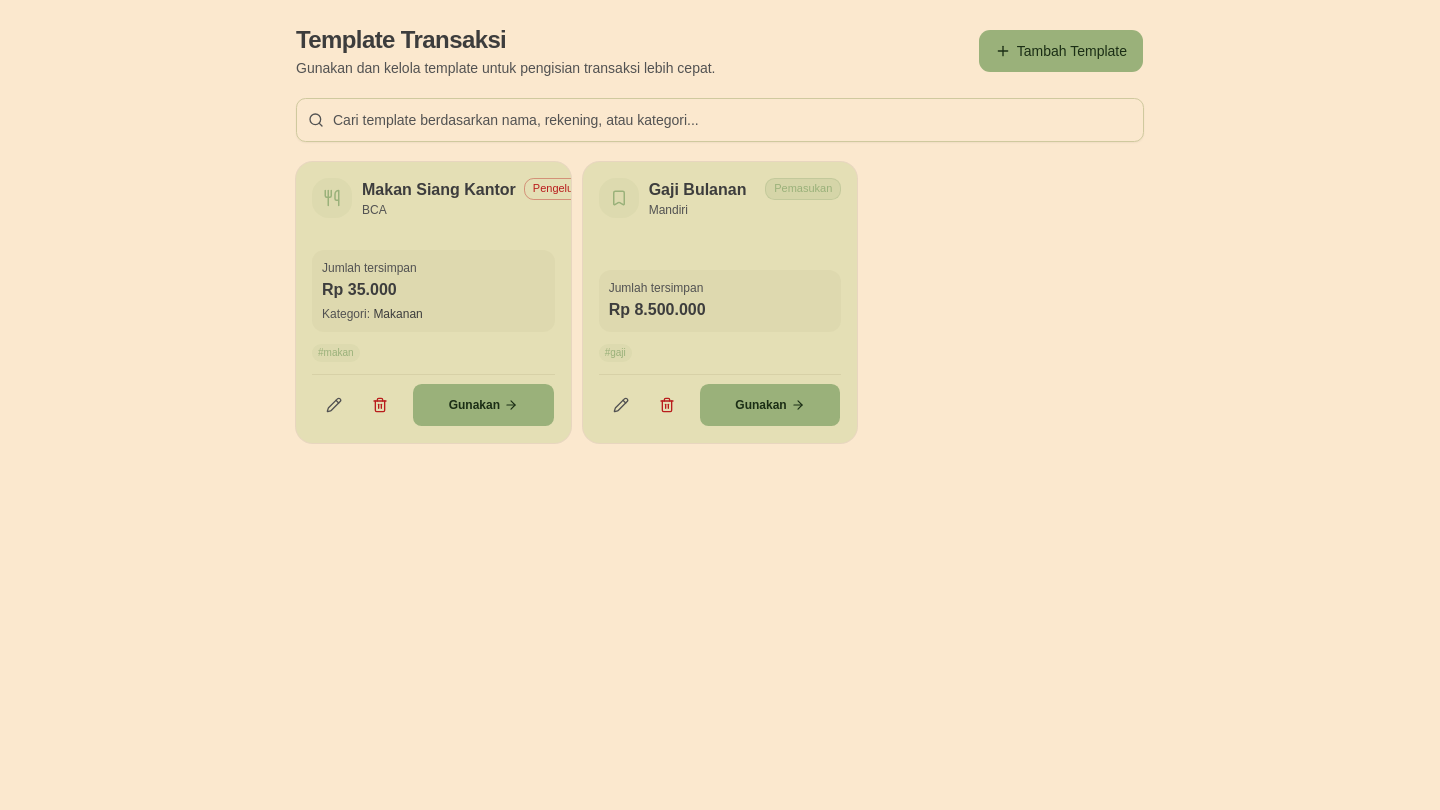
Test: TemplatesPage › opens edit dialog when edit button is clicked
Click the button named "Edit template Makan Siang Kantor": (334, 405) [312,383,356,427]
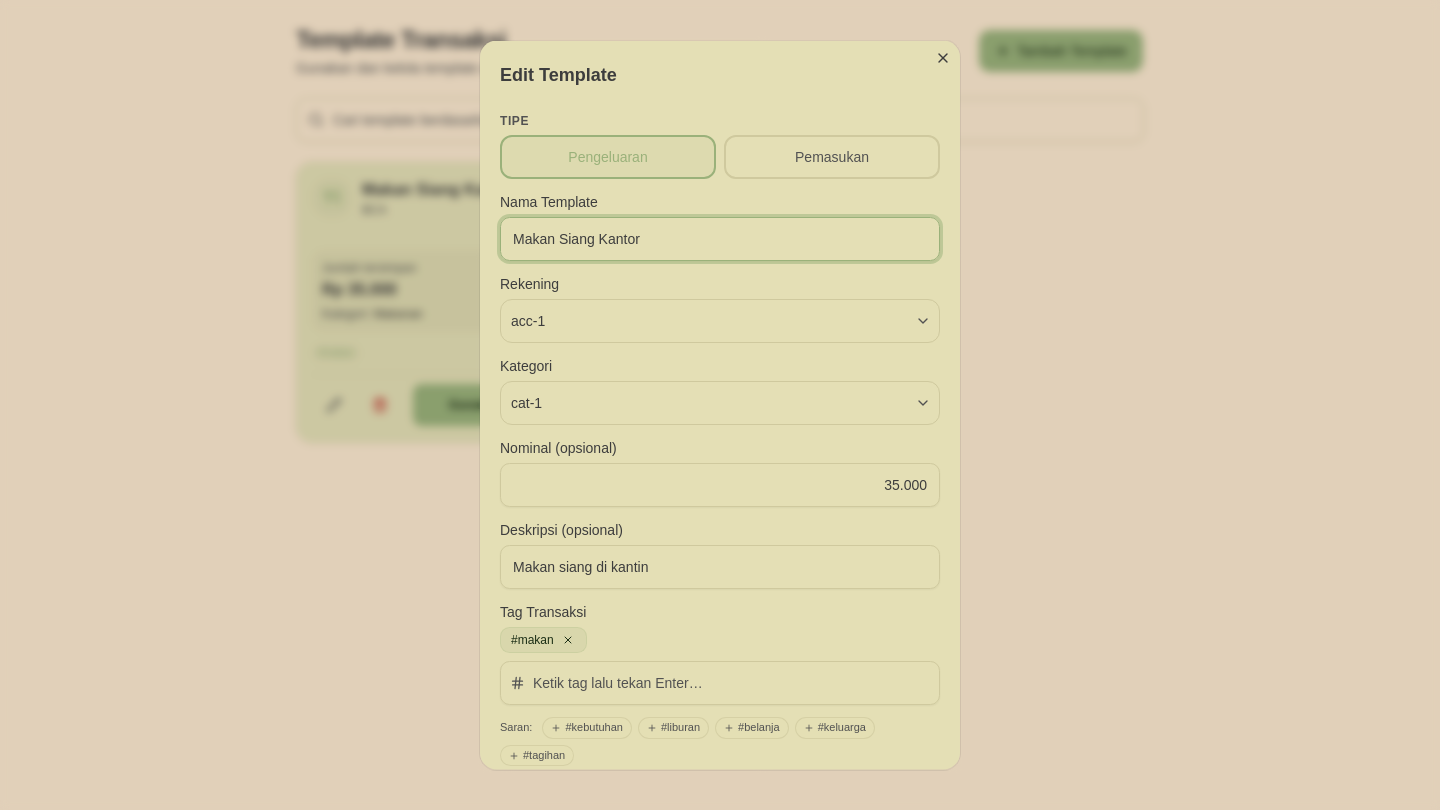
Check: the heading "Edit Template" is shown, box [500,64,617,84]
